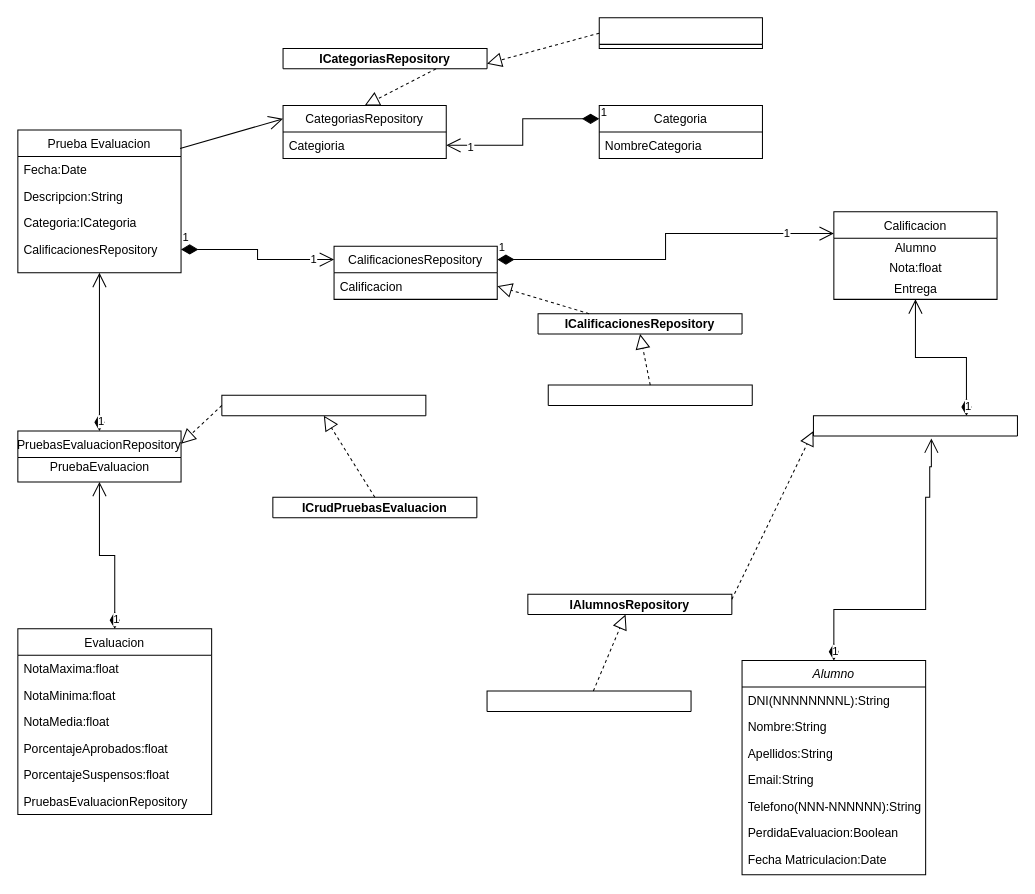
The diagram is 1035 pixels wide and 894 high, and some of its shapes have lost their labels. Here are the shapes that lost their labels. From the top down, the centre of each, then its label:
pixel 680 32: ICrudCategoria
pixel 323 405: IPruebasEvaluacionRepository
pixel 649 394: ICrudCalificaciones
pixel 914 425: AlumnosRepository
pixel 588 700: ICrudAlumnos
